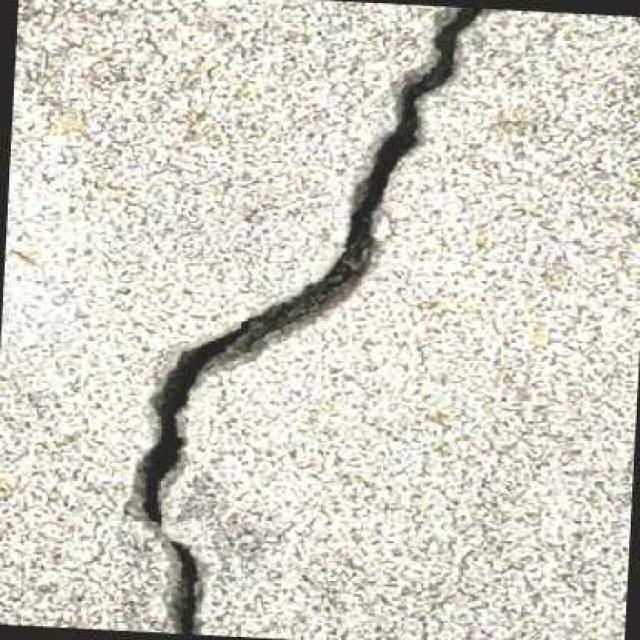D00: (139, 8, 480, 634)
